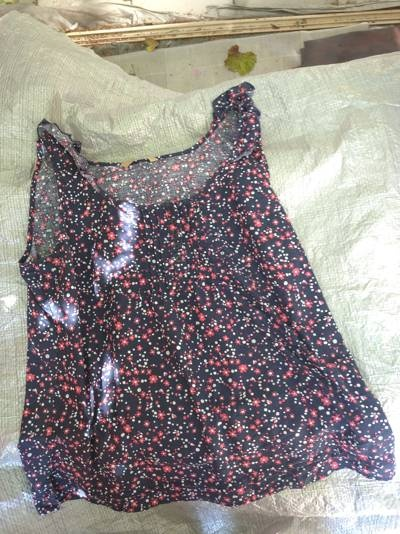Dress: (7, 85, 396, 503)
